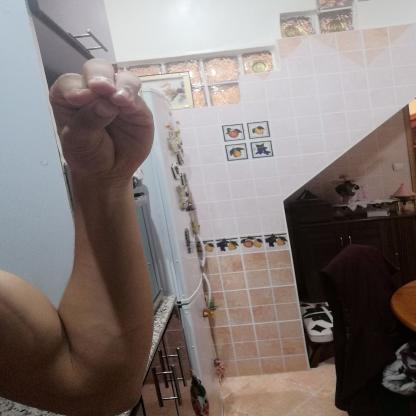HA: (34, 46, 173, 194)
